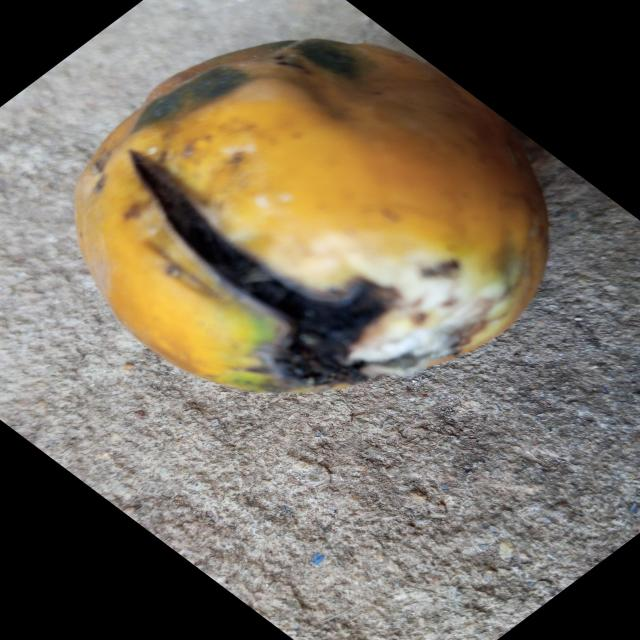damaged: (76, 39, 547, 393)
